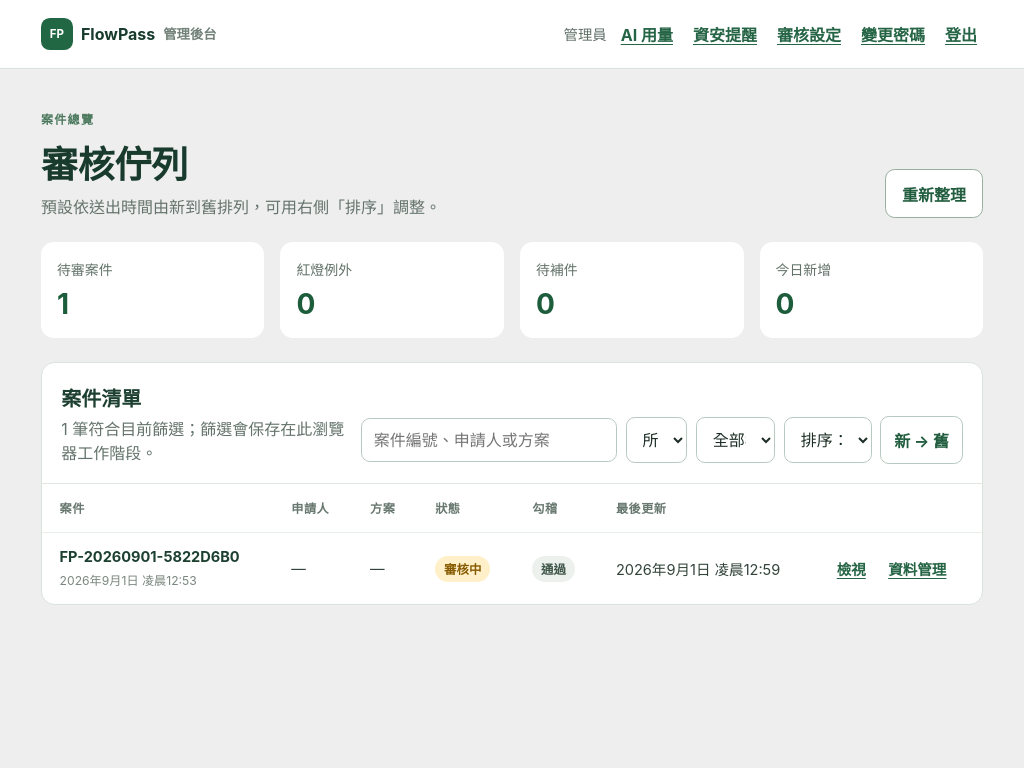
Test: FlowPass admin attachment panel › loads and renders the selected case attachments with document type labels
Step 1. Click the button "檢視" → (851, 569), box [831,557,872,580]
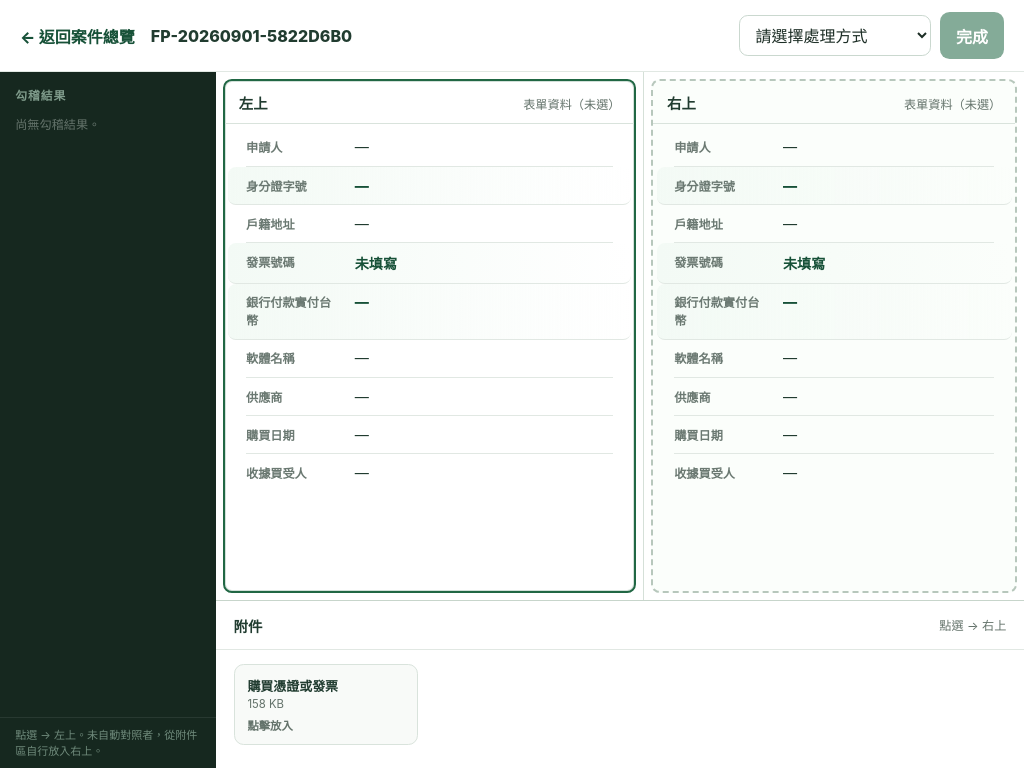
expect the heading "附件" is shown: met, box [234,614,262,636]
expect the text "購買憑證或發票" is shown: met, box [247,678,338,694]
expect the text "158 KB" is shown: met, box [247,697,284,711]
